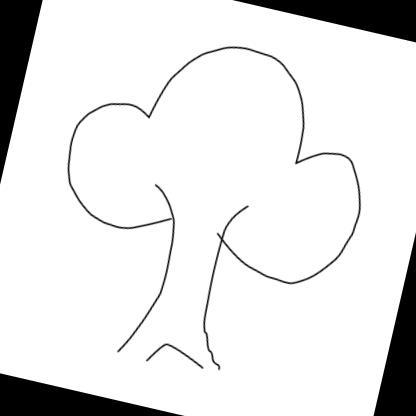crown_cloud: (50, 13, 390, 296)
trunk_straight: (146, 232, 226, 330)
